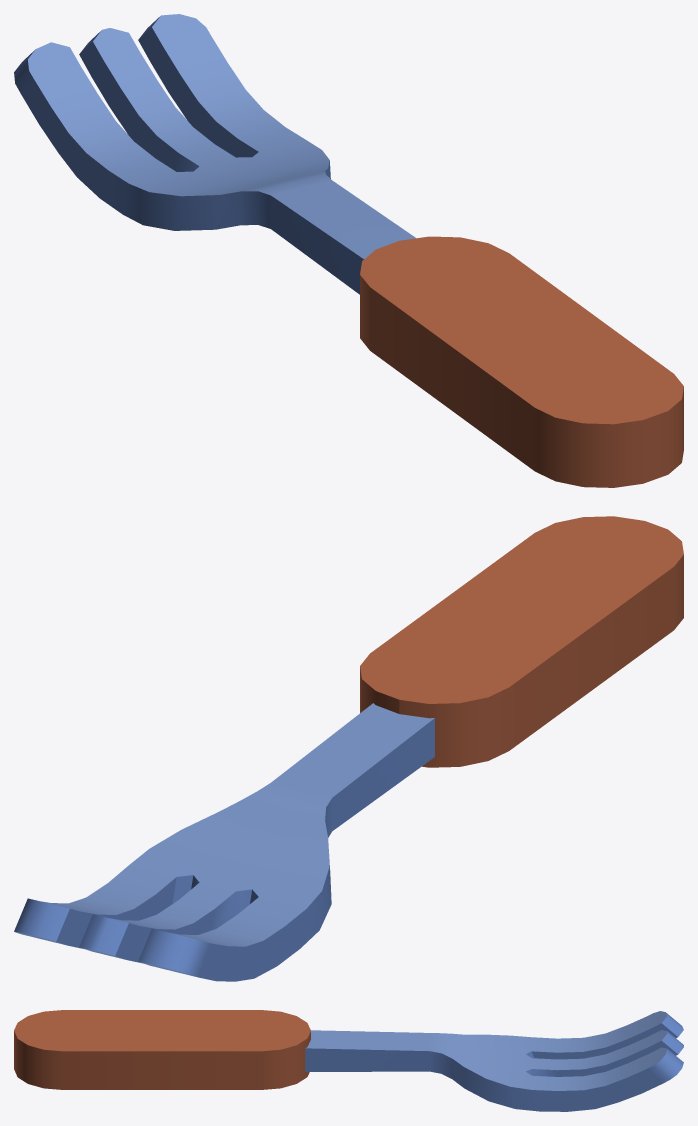
File: Fork B.fbx
3 renders of one model, top to bottom at view 1: azimuth 30°, elevation 25°; view 2: azimuth 150°, elevation 25°; view 3: azimuth 270°, elevation 25°, orthographic. The views are drawn at different scales.
Parts seen in each view (by area): view 1: Fork B; view 2: Fork B; view 3: Fork B.
Boxes of the visible parts, x1,y1,x2,y2 form: Fork B: [14, 14, 683, 487]; Fork B: [14, 516, 683, 981]; Fork B: [14, 1010, 683, 1111].
Size of the model in its own units: 0.1091 by 0.0531 by 0.5859.
